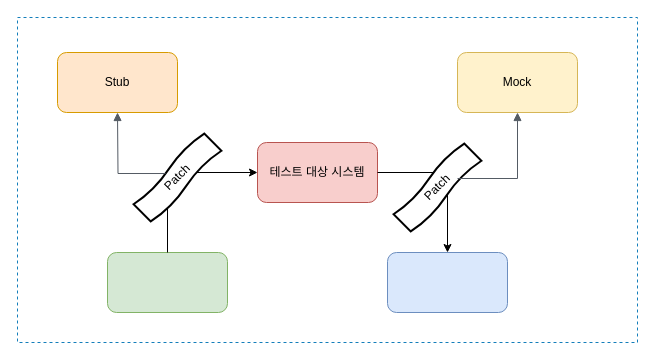
This 655x360 diagram has some shape labels left out. The shapes that lost their labels are listed below. From the top down, each one's centre as x and y in pixels, then its label:
the point at 167,282: 조회 (ex. RDS)
the point at 447,282: 명령 (ex. SMTP 메일 서버)
